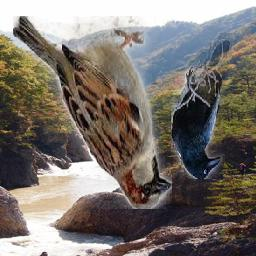Crow: (171, 39, 231, 179)
Sparrow: (14, 17, 173, 210)
